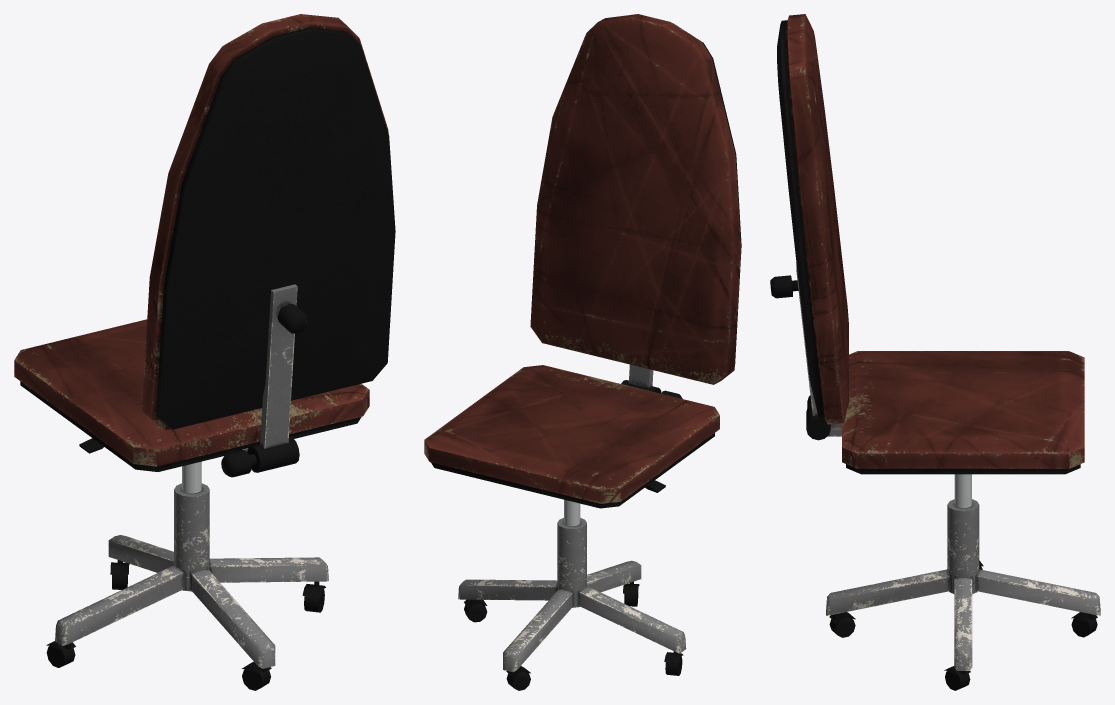
Rendered from Chairoffice_AA.fbx.
3 views of the same model, side by side, from view 1: azimuth 30°, elevation 25°; view 2: azimuth 150°, elevation 25°; view 3: azimuth 270°, elevation 25° (orthographic). The views are drawn at different scales.
Parts seen in each view (by area): view 1: Chairoffice_AA; view 2: Chairoffice_AA; view 3: Chairoffice_AA.
Part boxes in pixels (x1,y1,x2,y2): Chairoffice_AA: (14, 14, 395, 690); Chairoffice_AA: (424, 14, 741, 690); Chairoffice_AA: (770, 14, 1100, 690).
Bounding box in the file's own units: 0.4873 × 0.578 × 1.18.
Materials: 1 (1 with a texture image).
